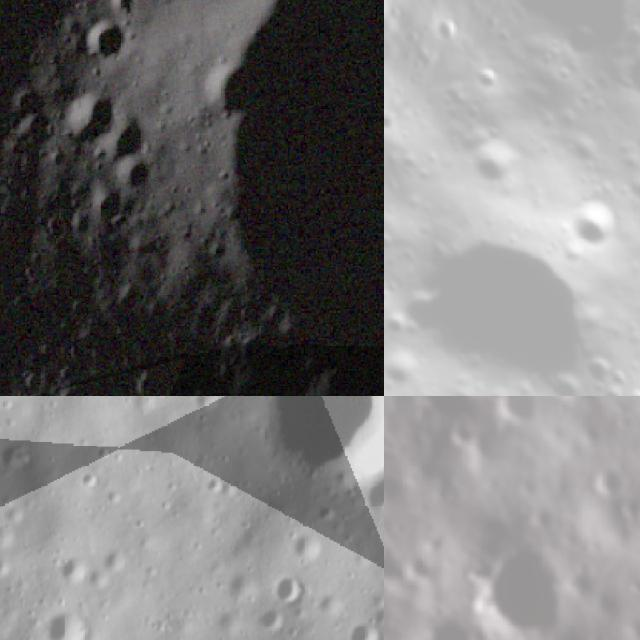crater: (384, 188, 631, 396), (269, 396, 384, 475), (480, 540, 569, 640), (565, 189, 636, 260), (461, 407, 529, 469), (609, 16, 640, 135), (463, 51, 518, 105), (464, 137, 518, 191), (410, 603, 487, 640), (582, 456, 637, 497), (64, 102, 115, 140), (82, 23, 127, 66), (39, 613, 98, 640), (417, 396, 478, 419), (490, 396, 541, 423), (57, 554, 97, 584), (384, 547, 411, 591), (294, 526, 326, 556), (273, 570, 302, 600), (384, 424, 399, 480), (345, 620, 384, 640), (361, 478, 384, 509), (76, 469, 105, 492)
